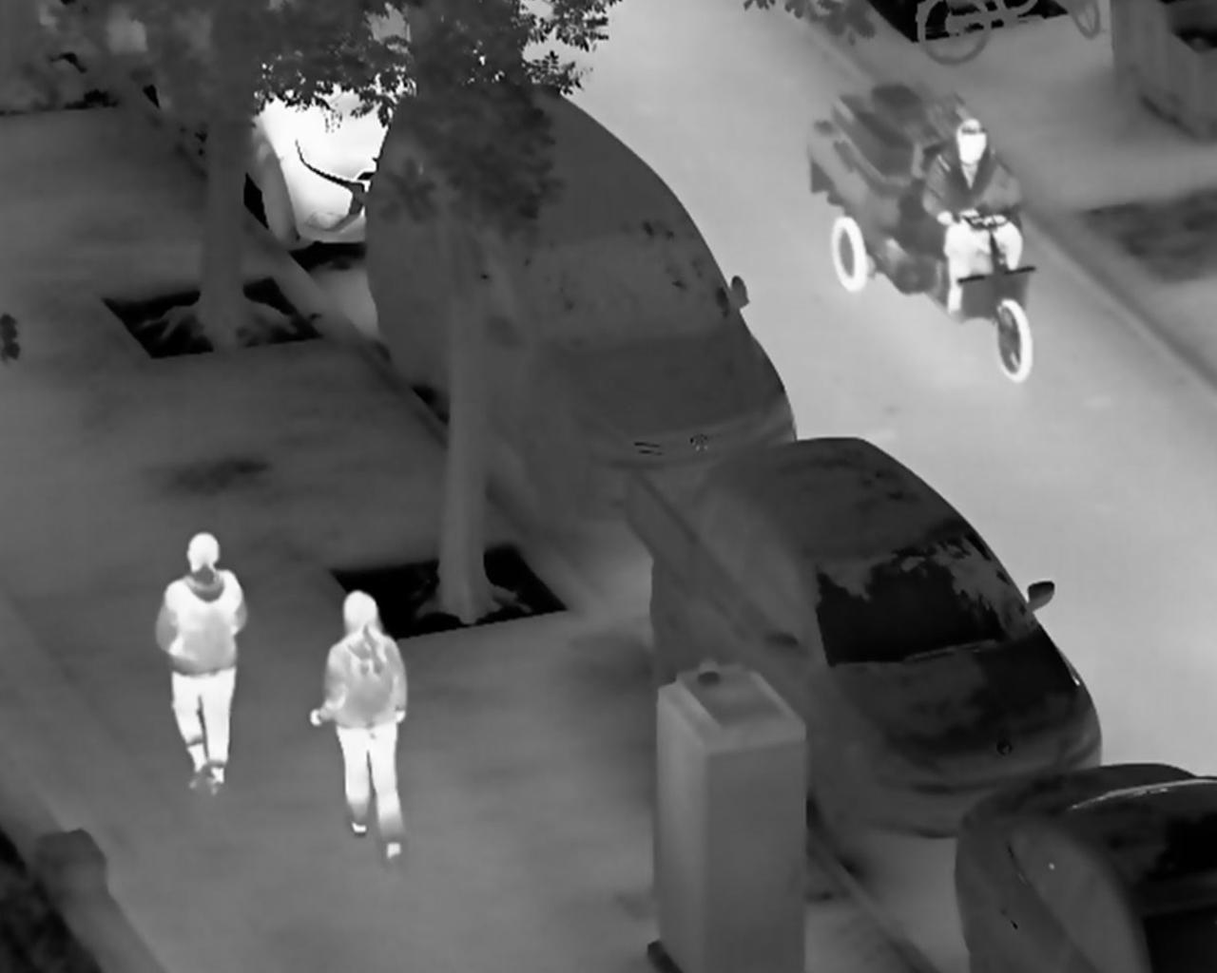person: (308, 588, 409, 869), (150, 528, 249, 797), (919, 119, 1029, 318)
